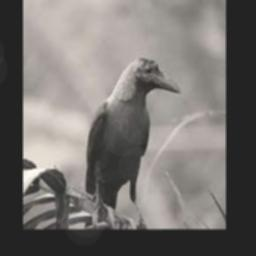Crow: (85, 56, 181, 228)
